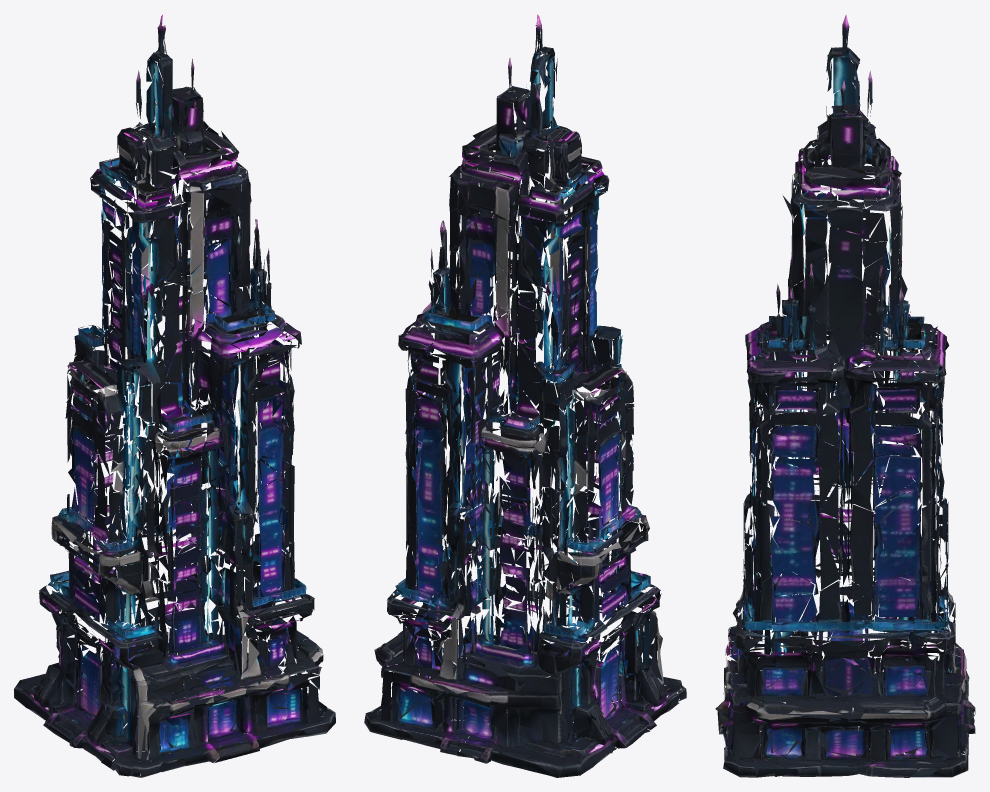
Rendered from city-crown-png.glb.
The picture shows the model from 3 angles, left to right: view 1: azimuth 30°, elevation 25°; view 2: azimuth 150°, elevation 25°; view 3: azimuth 270°, elevation 25°; orthographic projection.
Visible parts, largest first — view 1: Mesh_0; view 2: Mesh_0; view 3: Mesh_0.
Part boxes in pixels (x1,y1,x2,y2): Mesh_0: (14, 14, 335, 777); Mesh_0: (364, 14, 686, 777); Mesh_0: (715, 14, 975, 777).
Bounding box in the file's own units: 0.3387 × 1 × 0.3344.
1 material, 1 textured.
